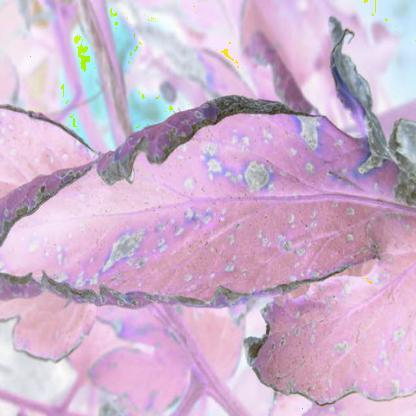Tomato Septoria leaf spot: (5, 80, 413, 406)
